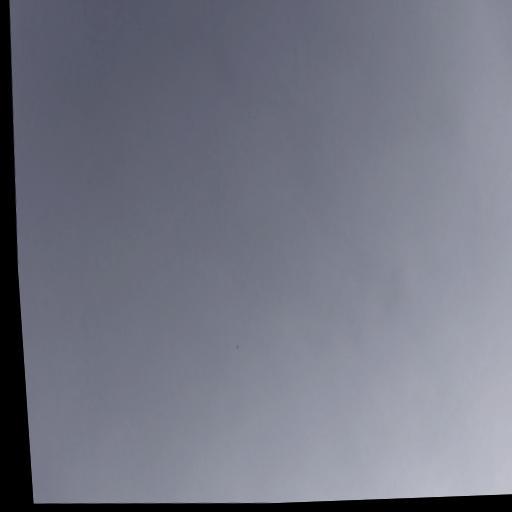drones: (235, 344, 239, 351)
